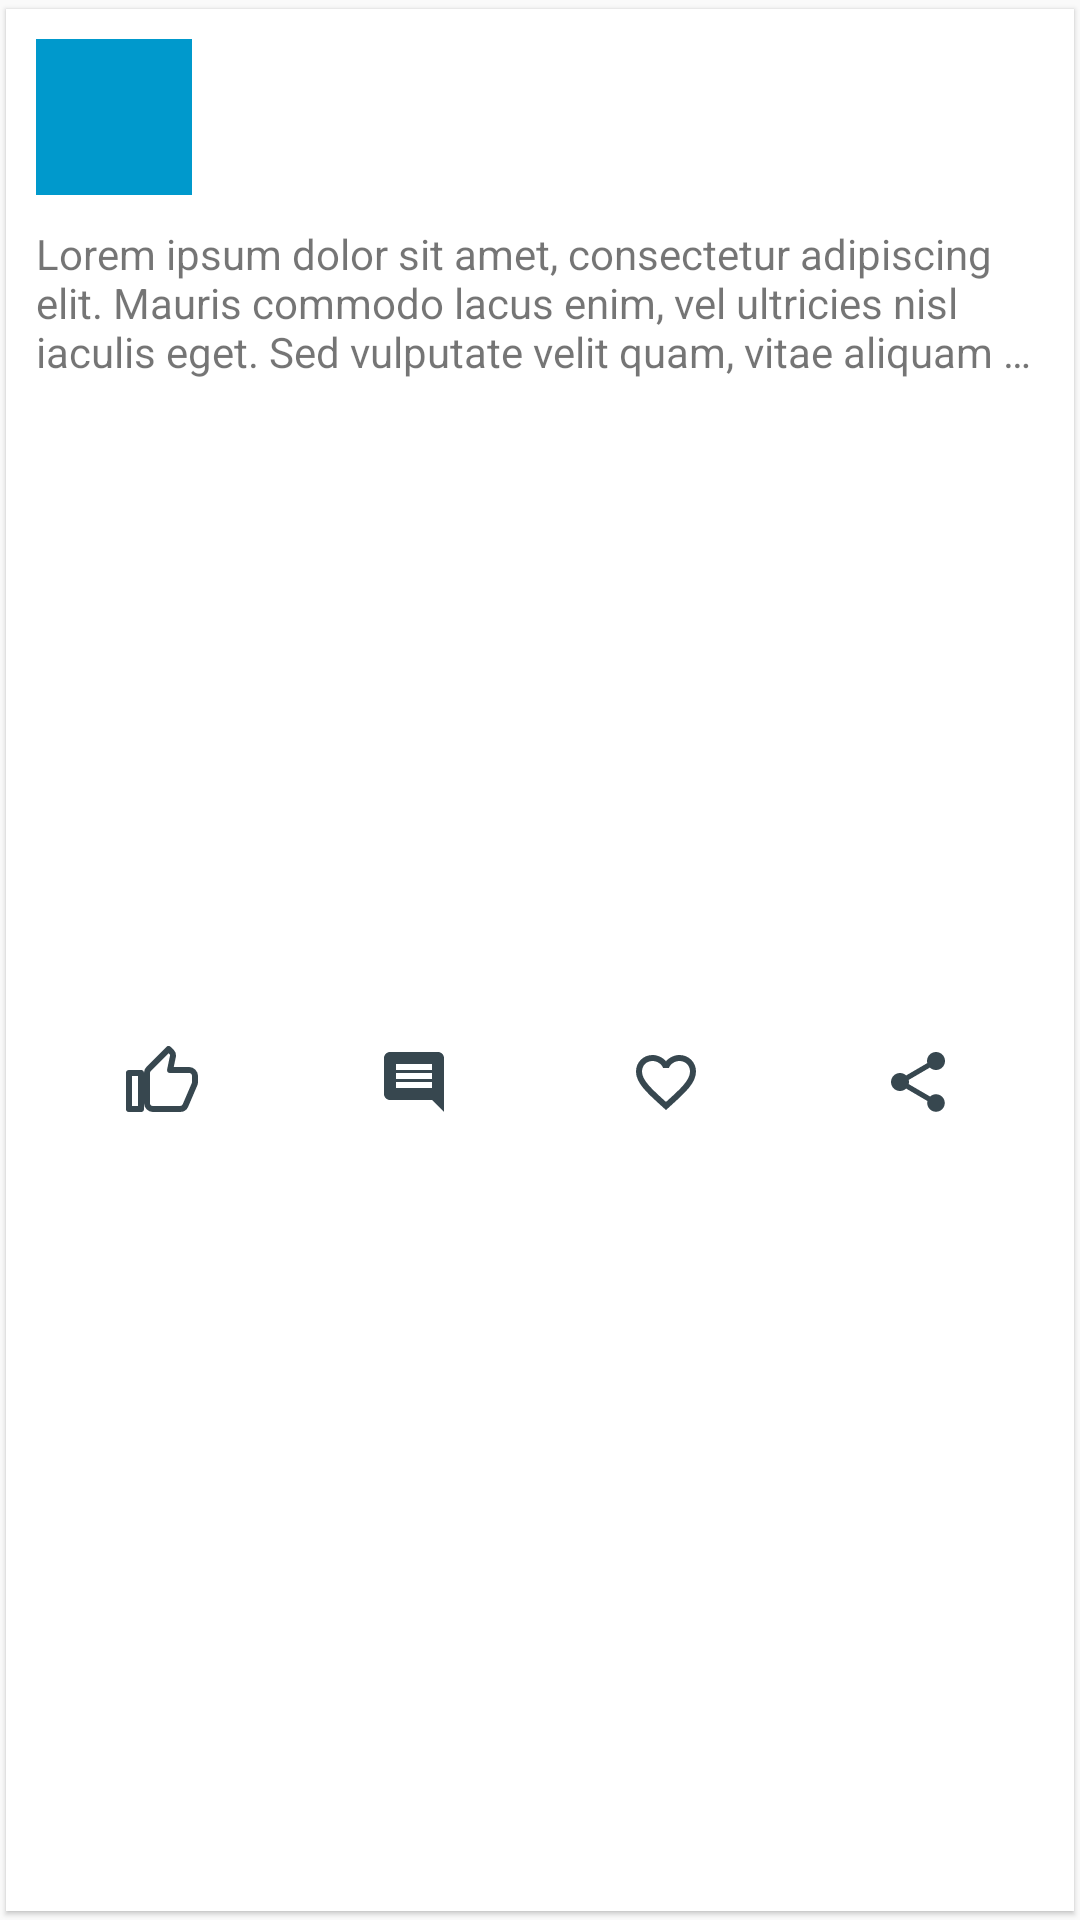

Named icons in this screenshot (1080 × 1920) and their bounding boxes, (x1=x1, y1=y1, x2=x2, y2=y2):
comment: (x1=384, y1=1052, x2=444, y2=1112)
favorite border: (x1=636, y1=1055, x2=696, y2=1110)
share: (x1=891, y1=1052, x2=945, y2=1112)
thumb up border: (x1=126, y1=1046, x2=198, y2=1112)
